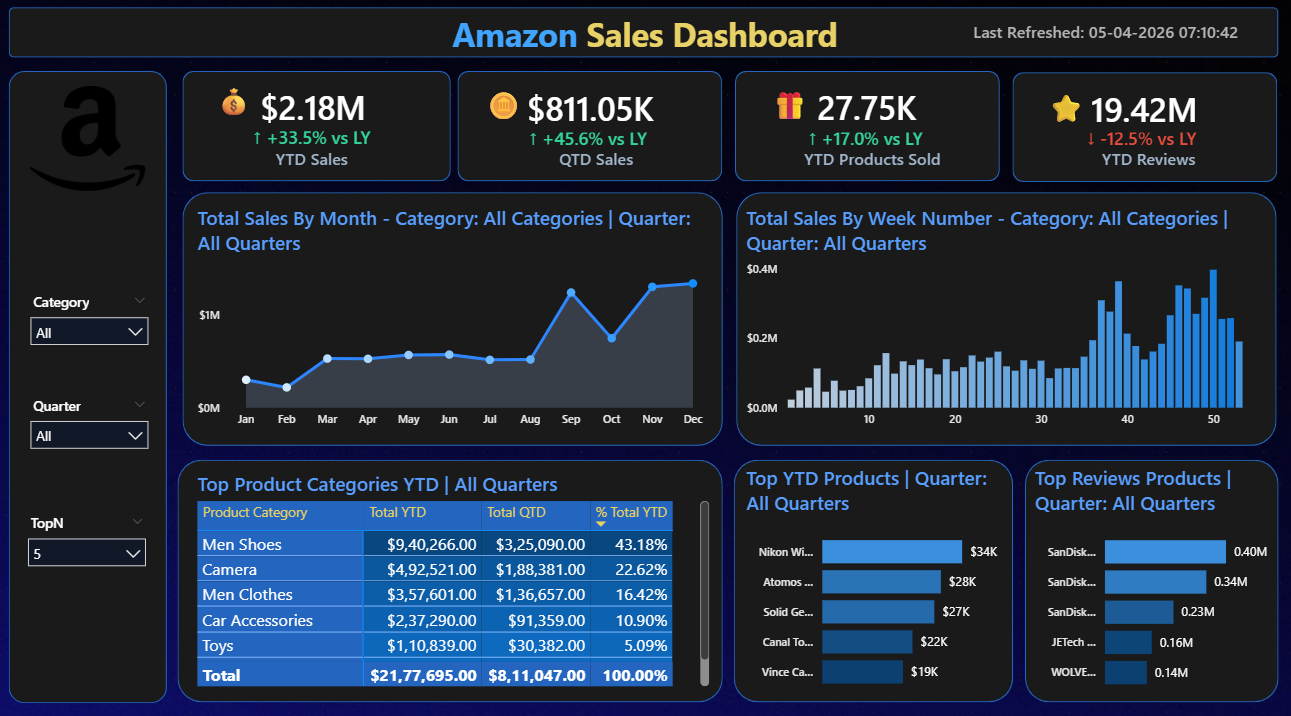

The page's visual inventory and layout, read from the dashboard file:
{"tool":"powerbi","page":{"name":"Page 1","canvas":[1280,720],"ordinal":0},"visuals":[{"type":"group","id":"g1","title":"Background","box":[13.3,73.6,1249.9,622.5],"z":0},{"type":"shape","title":"logo box","box":[13.3,73.6,155.6,622.5],"z":0,"group":"g1"},{"type":"shape","title":"Kpi box","box":[184.6,73.6,264.2,108.6],"z":0,"group":"g4"},{"type":"image","box":[29,88,123,103],"z":0,"group":"g2"},{"type":"shape","title":"line chart box","box":[184.6,193,532,249.7],"z":0,"group":"g3"},{"type":"group","id":"g2","title":"Filters","box":[21.7,88,138.4,482.6],"z":500},{"type":"group","id":"g3","title":"Product Analysis","box":[184.6,193,1077.4,501.9],"z":750},{"type":"group","id":"g4","title":"Header","box":[13.7,11,1250.1,171.8],"z":1000},{"type":"shape","title":"Title Box","box":[13.7,11,1250.1,49.4],"z":1000,"group":"g4"},{"type":"shape","title":"bar chart box","box":[729.9,193,532,249.7],"z":1000,"group":"g1"},{"type":"areaChart","fields":{"Y":["Amazon_Data.Total Sales"],"Category":["Dim_Date.MMM"]},"box":[194.3,205.1,513.9,228],"z":1000,"group":"g3"},{"type":"slicer","fields":{"Values":["Dim_Date.Quarter"]},"box":[24.1,388.5,136,66],"z":1000,"group":"g2"},{"type":"shape","title":"Kpi box","box":[456,73.6,260.6,108.6],"z":2000,"group":"g4"},{"type":"clusteredColumnChart","fields":{"Category":["Dim_Date.Week Number"],"Y":["Amazon_Data.Total Sales"]},"box":[734.7,205.1,518.8,228],"z":2000,"group":"g3"},{"type":"shape","title":"category box","box":[179.8,456,536.9,238.9],"z":2000,"group":"g1"},{"type":"slicer","fields":{"Values":["TopN.TopN"]},"box":[21.7,504.3,136.3,66.4],"z":2000,"group":"g2"},{"type":"card","title":"kpi card","fields":{"Values":["Amazon_Data.Total YTD"]},"box":[213.6,74.8,200.3,71.2],"z":3000,"group":"g4"},{"type":"slicer","fields":{"Values":["Amazon_Data.Product Category"]},"box":[24.1,285.9,136,66],"z":3000,"group":"g2"},{"type":"shape","title":"top product box","box":[727.5,456,275.1,238.9],"z":3000,"group":"g1"},{"type":"pivotTable","fields":{"Rows":["Amazon_Data.Product Category"],"Values":["Amazon_Data.Total YTD","Amazon_Data.Total QTD","Divide(Amazon_Data.Total YTD, ScopedEval(Amazon_Data.Total YTD, []))"]},"box":[194.3,466.9,513.9,217.2],"z":3000,"group":"g3"},{"type":"shape","title":"Kpi box","box":[728.8,73.6,260.6,108.6],"z":4000,"group":"g4"},{"type":"shape","title":"review box","box":[1013.4,456,249.7,238.9],"z":4000,"group":"g1"},{"type":"clusteredBarChart","fields":{"Category":["Amazon_Data.Product Description"],"Y":["Amazon_Data.Total YTD"]},"box":[734.2,461,267.6,233.3],"z":4000,"group":"g3"},{"type":"card","title":"kpi card","fields":{"Values":["Amazon_Data.Sales KPI Label"]},"box":[194.2,127.2,235.3,26.5],"z":5000,"group":"g4"},{"type":"clusteredBarChart","fields":{"Category":["Amazon_Data.Product Description"],"Y":["Amazon_Data.YTD Reviews"]},"box":[1019.5,460.8,242.5,234],"z":5000,"group":"g3"},{"type":"shape","title":"Kpi box","box":[1001.5,74.8,260.6,108],"z":6000,"group":"g4"},{"type":"textbox","title":"kpi title","box":[224,144,176,32],"z":7000,"group":"g4"},{"type":"card","title":"kpi card","fields":{"Values":["Amazon_Data.Total QTD"]},"box":[486.4,76,200,70],"z":8000,"group":"g4"},{"type":"card","title":"kpi card","fields":{"Values":["Amazon_Data.QTD KPI Lable"]},"box":[467.1,127.5,235,26],"z":9000,"group":"g4"},{"type":"textbox","title":"kpi title","box":[512,144,160,32],"z":10000,"group":"g4"},{"type":"card","title":"kpi card","fields":{"Values":["Amazon_Data.YTD Product Sold"]},"box":[758.9,75.4,200.3,71],"z":11000,"group":"g4"},{"type":"card","title":"kpi card","fields":{"Values":["Amazon_Data.YTD Product KPI Lable"]},"box":[739.7,127.5,235,26],"z":12000,"group":"g4"},{"type":"textbox","title":"kpi title","box":[784,144,160,32],"z":13000,"group":"g4"},{"type":"textbox","title":"Title","box":[371.8,11,536.5,76.8],"z":14000,"group":"g4"},{"type":"card","title":"kpi card","fields":{"Values":["Amazon_Data.YTD Reviews"]},"box":[1031.7,75.7,200.3,71],"z":15000,"group":"g4"},{"type":"card","title":"kpi card","fields":{"Values":["Amazon_Data.YTD Reviews KPI"]},"box":[1012.3,127.5,235,26],"z":16000,"group":"g4"},{"type":"textbox","title":"kpi title","box":[1056,144,160,32],"z":17000,"group":"g4"},{"type":"textbox","title":"icon","box":[212.3,79.6,60,60.3],"z":18000,"group":"g4"},{"type":"textbox","title":"icon","box":[477.8,83.3,60,60.3],"z":19000,"group":"g4"},{"type":"textbox","title":"icon","box":[759,83.3,60,60.3],"z":20000,"group":"g4"},{"type":"textbox","title":"icon","box":[1031.7,85.7,60,60.3],"z":21000,"group":"g4"},{"type":"card","title":"Last Refreshed","fields":{"Values":["LastRefresh.Last Refresh Label"]},"box":[925.3,18.1,336.6,37.4],"z":22000,"group":"g4"}]}

Visuals, with their boxes in screenshot pixels (x1, y1, x2, y2), scaled from the page's 1280x720 canvas onto the 1291x716 screenshot:
"Background" group: pyautogui.locateOnScreen(13, 73, 1274, 692)
"logo box" shape: pyautogui.locateOnScreen(13, 73, 170, 692)
"Kpi box" shape: pyautogui.locateOnScreen(186, 73, 453, 181)
image: pyautogui.locateOnScreen(29, 88, 153, 190)
"line chart box" shape: pyautogui.locateOnScreen(186, 192, 723, 440)
"Filters" group: pyautogui.locateOnScreen(22, 88, 161, 567)
"Product Analysis" group: pyautogui.locateOnScreen(186, 192, 1273, 691)
"Header" group: pyautogui.locateOnScreen(14, 11, 1275, 182)
"Title Box" shape: pyautogui.locateOnScreen(14, 11, 1275, 60)
"bar chart box" shape: pyautogui.locateOnScreen(736, 192, 1273, 440)
areaChart - Amazon_Data.Total Sales x Dim_Date.MMM: pyautogui.locateOnScreen(196, 204, 714, 431)
slicer - Dim_Date.Quarter: pyautogui.locateOnScreen(24, 386, 161, 452)
"Kpi box" shape: pyautogui.locateOnScreen(460, 73, 723, 181)
clusteredColumnChart - Dim_Date.Week Number x Amazon_Data.Total Sales: pyautogui.locateOnScreen(741, 204, 1264, 431)
"category box" shape: pyautogui.locateOnScreen(181, 453, 723, 691)
slicer - TopN.TopN: pyautogui.locateOnScreen(22, 501, 159, 568)
"kpi card" card: pyautogui.locateOnScreen(215, 74, 417, 145)
slicer - Amazon_Data.Product Category: pyautogui.locateOnScreen(24, 284, 161, 350)
"top product box" shape: pyautogui.locateOnScreen(734, 453, 1011, 691)
pivotTable - Amazon_Data.Product Category x Amazon_Data.Total YTD: pyautogui.locateOnScreen(196, 464, 714, 680)
"Kpi box" shape: pyautogui.locateOnScreen(735, 73, 998, 181)
"review box" shape: pyautogui.locateOnScreen(1022, 453, 1274, 691)
clusteredBarChart - Amazon_Data.Product Description x Amazon_Data.Total YTD: pyautogui.locateOnScreen(741, 458, 1010, 690)
"kpi card" card: pyautogui.locateOnScreen(196, 126, 433, 153)
clusteredBarChart - Amazon_Data.Product Description x Amazon_Data.YTD Reviews: pyautogui.locateOnScreen(1028, 458, 1273, 691)
"Kpi box" shape: pyautogui.locateOnScreen(1010, 74, 1273, 182)
"kpi title" textbox: pyautogui.locateOnScreen(226, 143, 403, 175)
"kpi card" card: pyautogui.locateOnScreen(491, 76, 692, 145)
"kpi card" card: pyautogui.locateOnScreen(471, 127, 708, 153)
"kpi title" textbox: pyautogui.locateOnScreen(516, 143, 678, 175)
"kpi card" card: pyautogui.locateOnScreen(765, 75, 967, 146)
"kpi card" card: pyautogui.locateOnScreen(746, 127, 983, 153)
"kpi title" textbox: pyautogui.locateOnScreen(791, 143, 952, 175)
"Title" textbox: pyautogui.locateOnScreen(375, 11, 916, 87)
"kpi card" card: pyautogui.locateOnScreen(1041, 75, 1243, 146)
"kpi card" card: pyautogui.locateOnScreen(1021, 127, 1258, 153)
"kpi title" textbox: pyautogui.locateOnScreen(1065, 143, 1226, 175)
"icon" textbox: pyautogui.locateOnScreen(214, 79, 275, 139)
"icon" textbox: pyautogui.locateOnScreen(482, 83, 542, 143)
"icon" textbox: pyautogui.locateOnScreen(766, 83, 826, 143)
"icon" textbox: pyautogui.locateOnScreen(1041, 85, 1101, 145)
"Last Refreshed" card: pyautogui.locateOnScreen(933, 18, 1273, 55)
